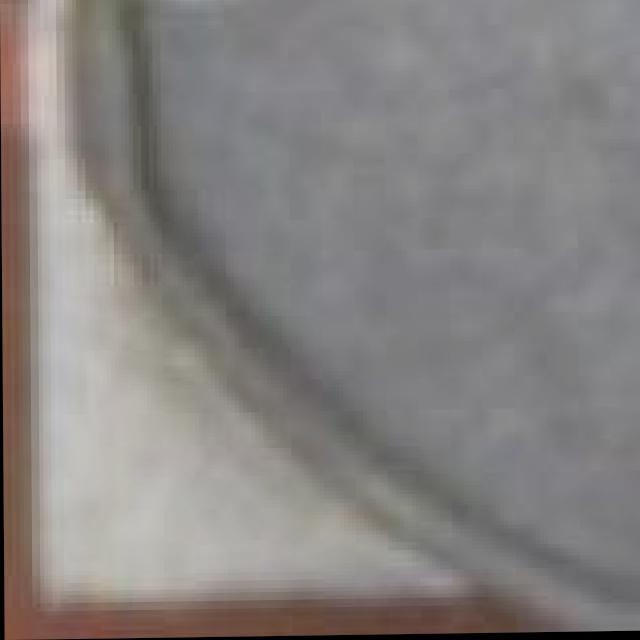inductor: (4, 0, 640, 616)
